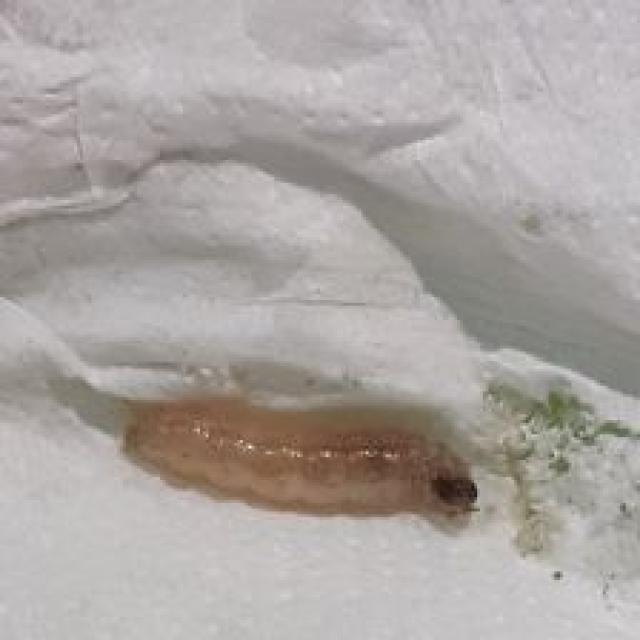white mucus: (113, 392, 491, 519)
